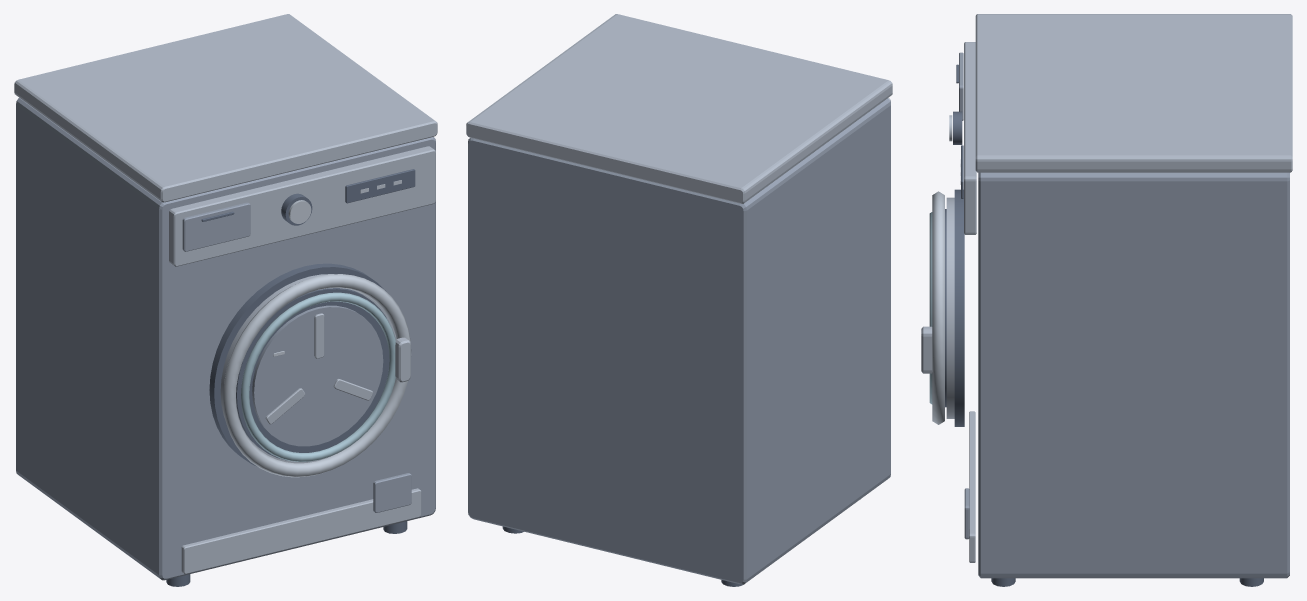
Rendered from washer.glb.
3 views of the same model, side by side, from view 1: azimuth 30°, elevation 25°; view 2: azimuth 150°, elevation 25°; view 3: azimuth 270°, elevation 25° (orthographic). The views are drawn at different scales.
Parts seen in each view (by area): view 1: body, soft, dark, light, glass; view 2: body, soft; view 3: body, soft, dark, light, glass.
Part boxes in pixels (<box>): body: <box>16,97,435,580</box>; soft: <box>14,14,437,574</box>; dark: <box>166,169,415,586</box>; light: <box>223,180,411,477</box>; glass: <box>241,292,395,461</box>; body: <box>468,98,890,584</box>; soft: <box>466,14,892,203</box>; body: <box>959,52,1289,578</box>; soft: <box>921,14,1292,562</box>; dark: <box>945,64,1263,586</box>; light: <box>932,115,960,424</box>; glass: <box>929,212,932,404</box>.
Size of the model in its own units: 0.6 by 0.85 by 0.65.
